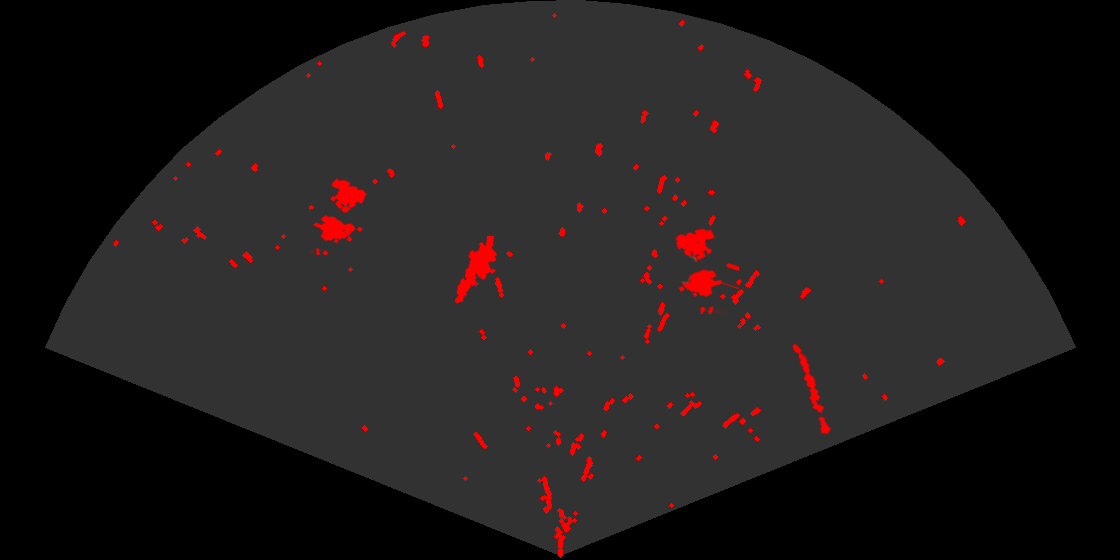cage: (674, 227, 739, 314), (309, 177, 368, 255)
chain: (791, 342, 833, 436)
frogman: (453, 236, 498, 306)
